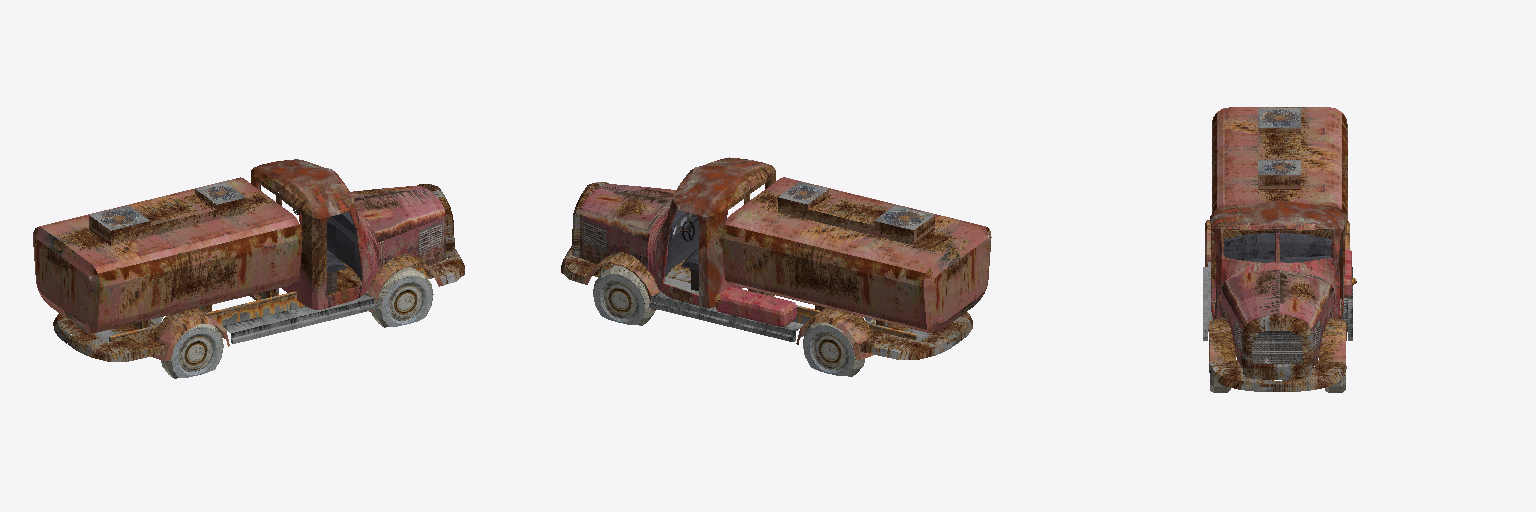
The picture shows the model from 3 angles: view 1: azimuth 30°, elevation 25°; view 2: azimuth 150°, elevation 25°; view 3: azimuth 270°, elevation 25°; orthographic projection.
Visible parts, largest first — view 1: Oil_truck; view 2: Oil_truck; view 3: Oil_truck.
Part boxes in pixels (x1,y1,x2,y2): Oil_truck: (33,159,464,378); Oil_truck: (561,157,991,376); Oil_truck: (1203,107,1356,392).
Bounding box in the file's own units: 9.02 × 3.17 × 3.12.
1 materials, 1 textured.